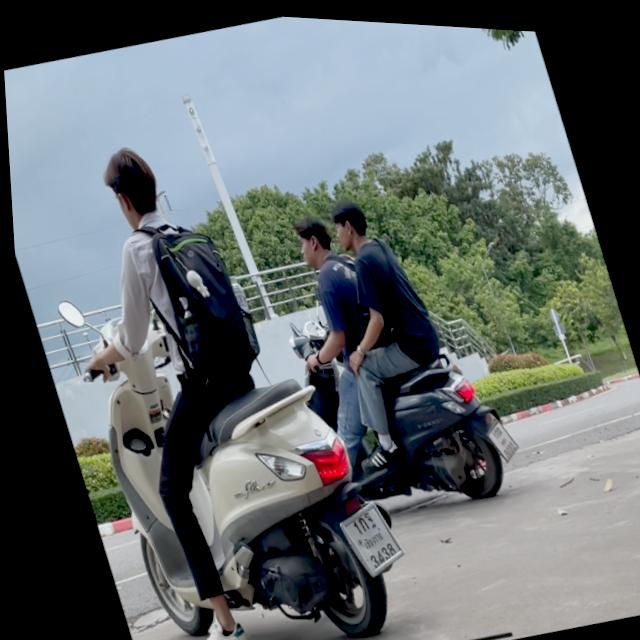seatbelt: (91, 137, 170, 236), (287, 204, 336, 268), (323, 189, 373, 251)
